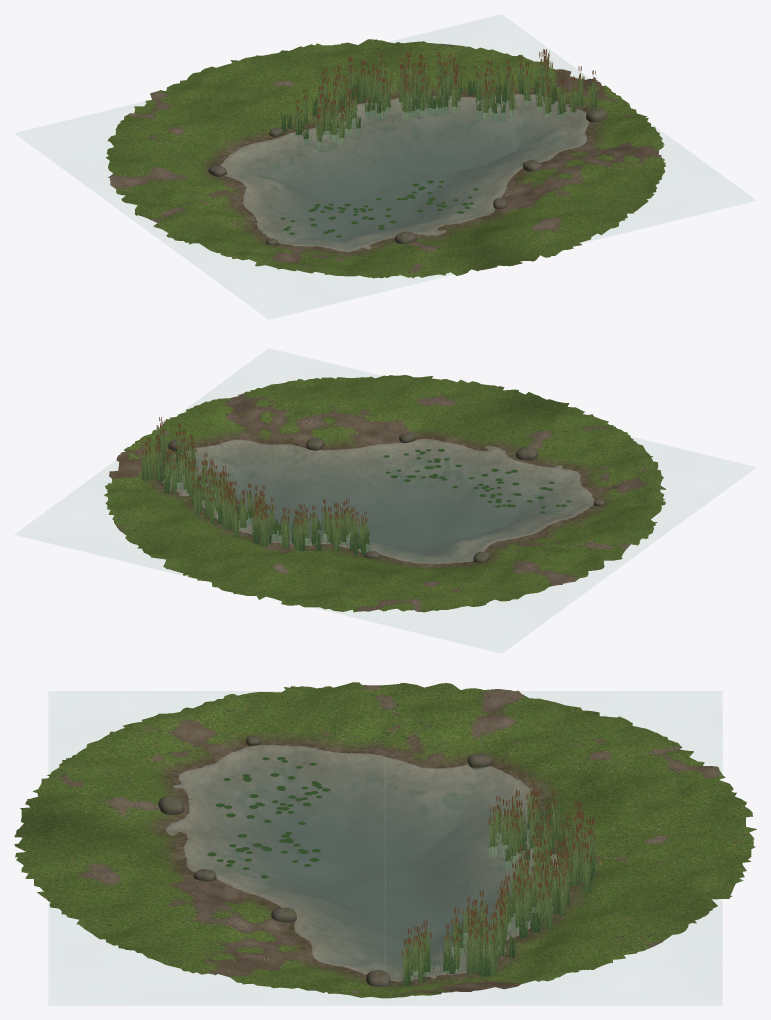
File: pond.glb
The picture shows the model from 3 angles, top to bottom: view 1: azimuth 30°, elevation 25°; view 2: azimuth 150°, elevation 25°; view 3: azimuth 270°, elevation 25°; orthographic projection. The views are drawn at different scales.
Visible parts, largest first — view 1: Pond bed and banks, Pond water surface, Marginal plants and water lilies, Margin stones; view 2: Pond bed and banks, Pond water surface, Marginal plants and water lilies, Margin stones; view 3: Pond bed and banks, Pond water surface, Marginal plants and water lilies, Margin stones.
Boxes of the visible parts, x1,y1,x2,y2 form: Pond bed and banks: [106, 39, 666, 278]; Pond water surface: [14, 14, 756, 319]; Marginal plants and water lilies: [278, 49, 598, 237]; Margin stones: [208, 108, 607, 244]; Pond bed and banks: [104, 375, 665, 612]; Pond water surface: [14, 348, 756, 653]; Marginal plants and water lilies: [140, 417, 571, 555]; Margin stones: [168, 432, 604, 562]; Pond bed and banks: [14, 682, 756, 998]; Pond water surface: [48, 691, 722, 1005]; Marginal plants and water lilies: [207, 757, 604, 986]; Margin stones: [158, 736, 552, 986].
Bounding box in the file's own units: 21 × 3.53 × 20.94.
4 materials, 4 textured.
